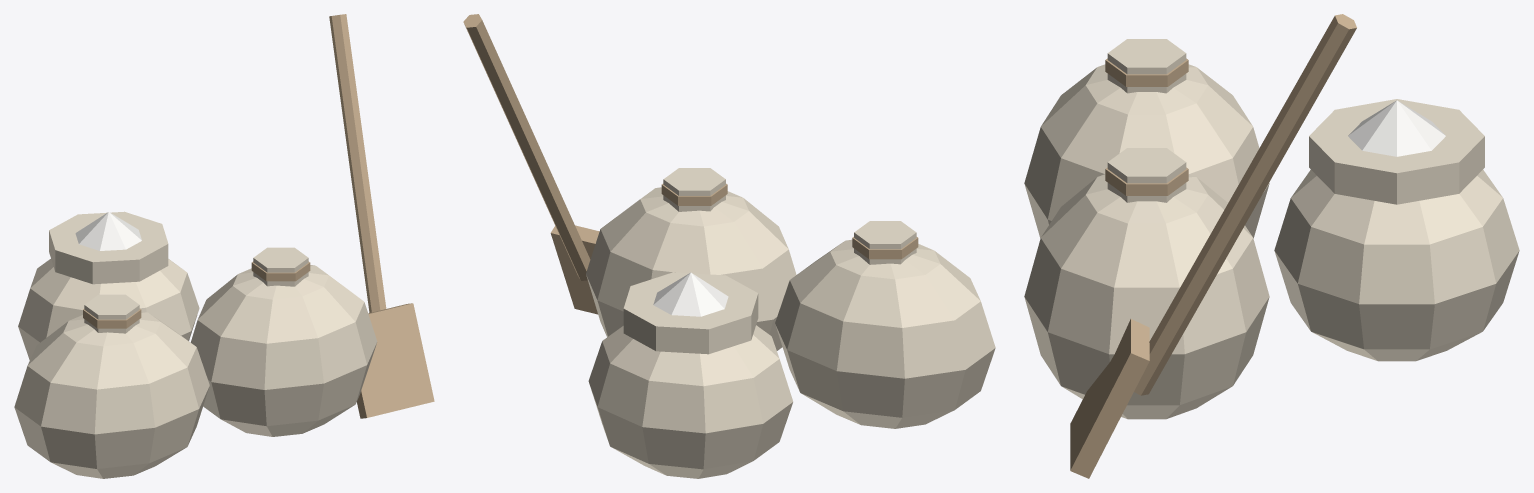
The model's file is stall-salter.glb.
The picture shows the model from 3 angles, left to right: view 1: azimuth 30°, elevation 25°; view 2: azimuth 150°, elevation 25°; view 3: azimuth 270°, elevation 25°; orthographic projection. The views are drawn at different scales.
Parts seen in each view (by area): view 1: stall-salter_sack, stall-salter_wood, stall-salter_salt; view 2: stall-salter_sack, stall-salter_wood, stall-salter_salt; view 3: stall-salter_sack, stall-salter_wood, stall-salter_salt.
Part boxes in pixels (x1,y1,x2,y2): stall-salter_sack: [14, 211, 377, 478]; stall-salter_wood: [83, 14, 434, 418]; stall-salter_salt: [75, 212, 141, 250]; stall-salter_sack: [586, 168, 995, 478]; stall-salter_wood: [463, 14, 918, 314]; stall-salter_salt: [653, 272, 728, 316]; stall-salter_sack: [1024, 39, 1519, 419]; stall-salter_wood: [1070, 14, 1356, 478]; stall-salter_salt: [1348, 100, 1445, 156].
Bounding box in the file's own units: 0.4586 × 0.3691 × 0.3567.
